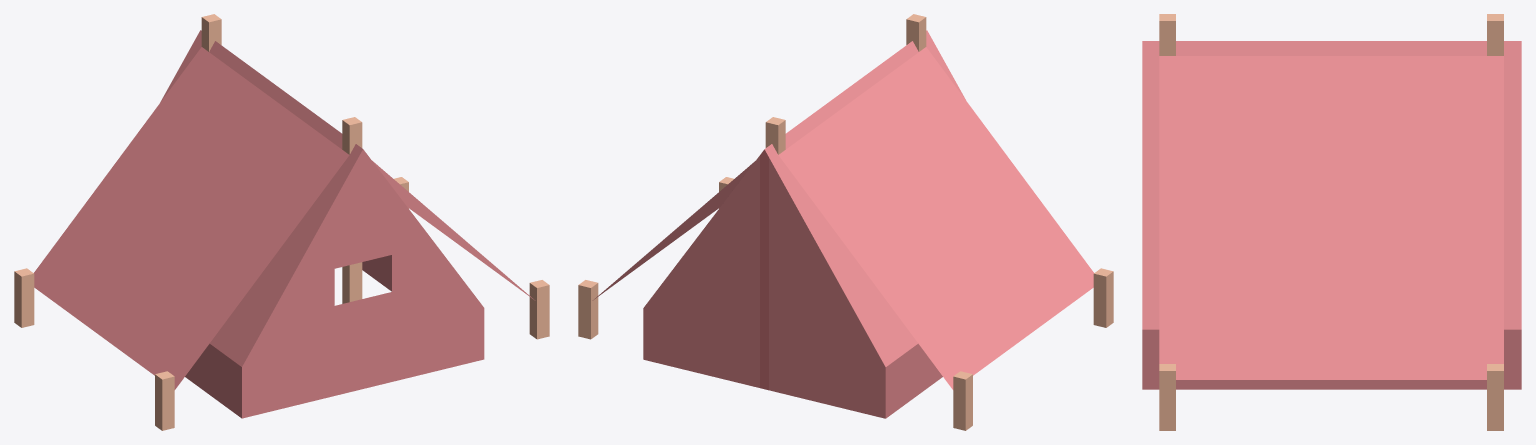
The model's file is tent_detailedClosed.glb.
3 views of the same model, side by side, from view 1: azimuth 30°, elevation 25°; view 2: azimuth 150°, elevation 25°; view 3: azimuth 270°, elevation 25° (orthographic). The views are drawn at different scales.
Visible parts, largest first — view 1: tent_detailedClosed; view 2: tent_detailedClosed; view 3: tent_detailedClosed.
Boxes of the visible parts, x1,y1,x2,y2 form: tent_detailedClosed: (14, 14, 549, 430); tent_detailedClosed: (578, 14, 1113, 430); tent_detailedClosed: (1142, 14, 1521, 430).
Size of the model in its own units: 0.8749 by 0.5611 by 0.6364.
